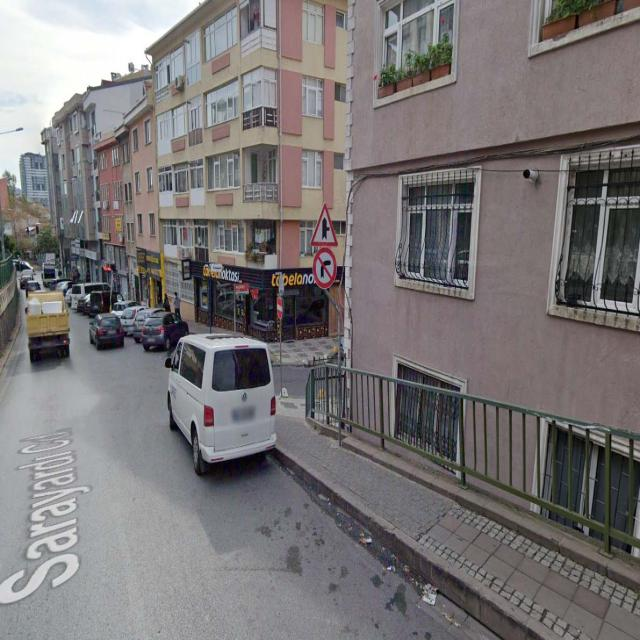sagadonulmez: (314, 248, 336, 287)
